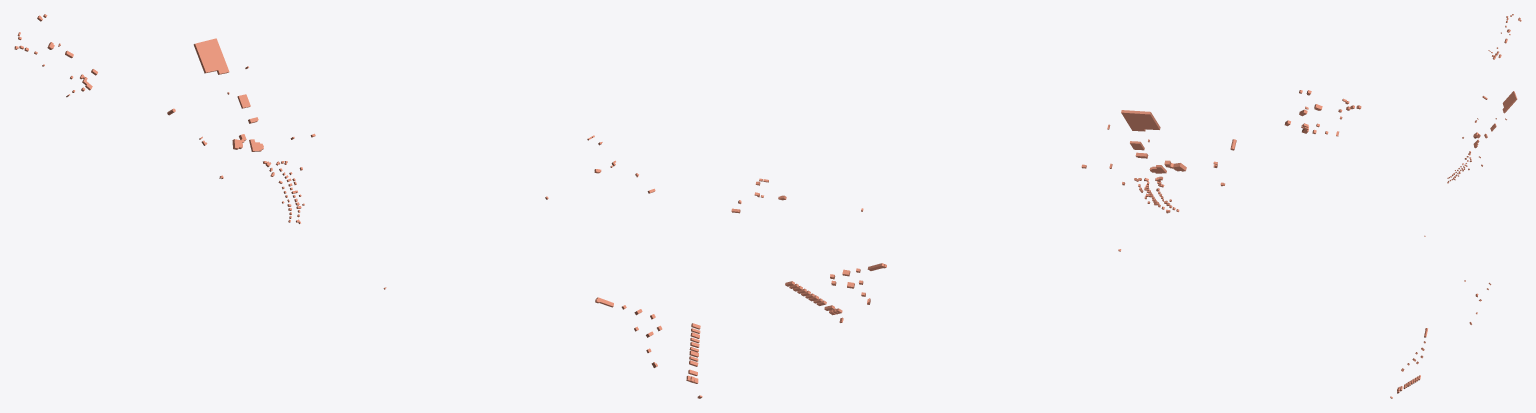
3 views of the same model, side by side, from view 1: azimuth 30°, elevation 25°; view 2: azimuth 150°, elevation 25°; view 3: azimuth 270°, elevation 25° (orthographic). The views are drawn at different scales.
Parts seen in each view (by area): view 1: mesh; view 2: mesh; view 3: mesh.
Part boxes in pixels (bbox=[...]): mesh: bbox=[14, 14, 702, 398]; mesh: bbox=[731, 90, 1361, 322]; mesh: bbox=[1390, 14, 1521, 398].
Bounding box in the file's own units: 3404 × 2308 × 1165.
